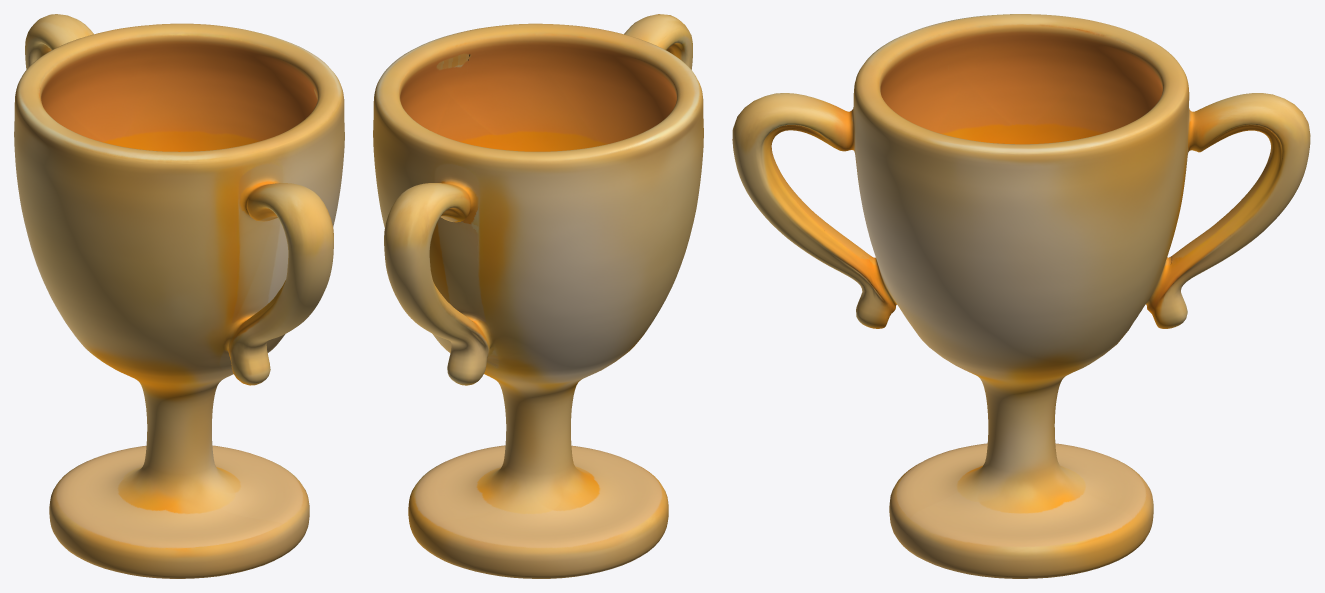
File: base_basic_pbr.glb
3 renders of one model, left to right at view 1: azimuth 30°, elevation 25°; view 2: azimuth 150°, elevation 25°; view 3: azimuth 270°, elevation 25°, orthographic.
Visible parts, largest first — view 1: model; view 2: model; view 3: model.
Part boxes in pixels (bbox=[...]): model: bbox=[14, 14, 344, 578]; model: bbox=[373, 14, 703, 578]; model: bbox=[732, 14, 1310, 578].
Bounding box in the file's own units: 1.1 × 1.63 × 1.9.
1 material, 1 textured.
